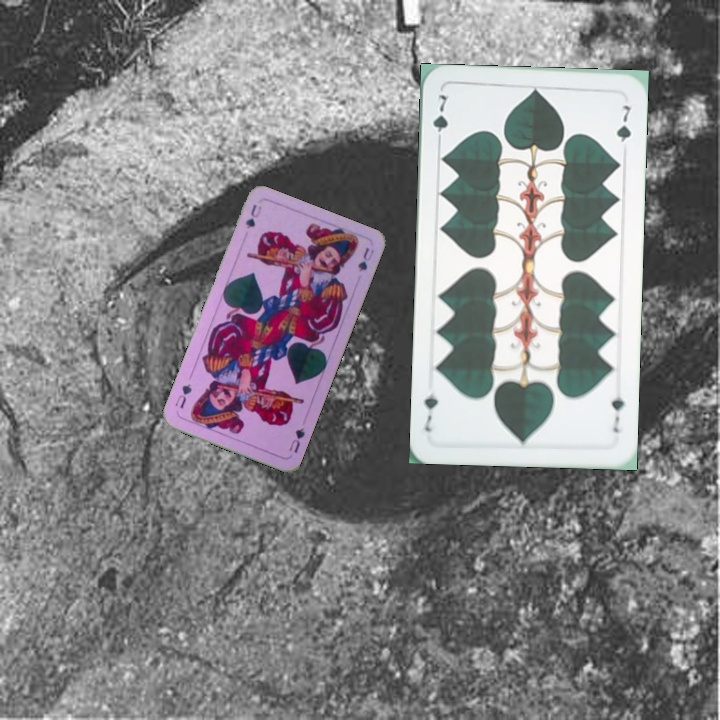G7: (429, 90, 452, 148), (607, 392, 627, 435)
GU: (241, 200, 264, 232), (285, 424, 307, 456)
